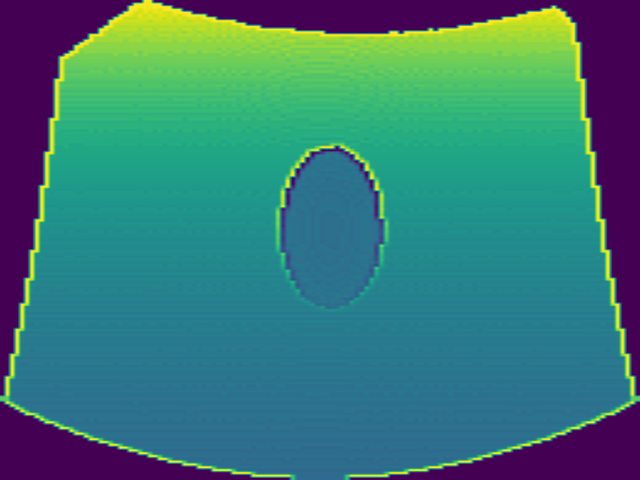sphere: (274, 144, 387, 311)
